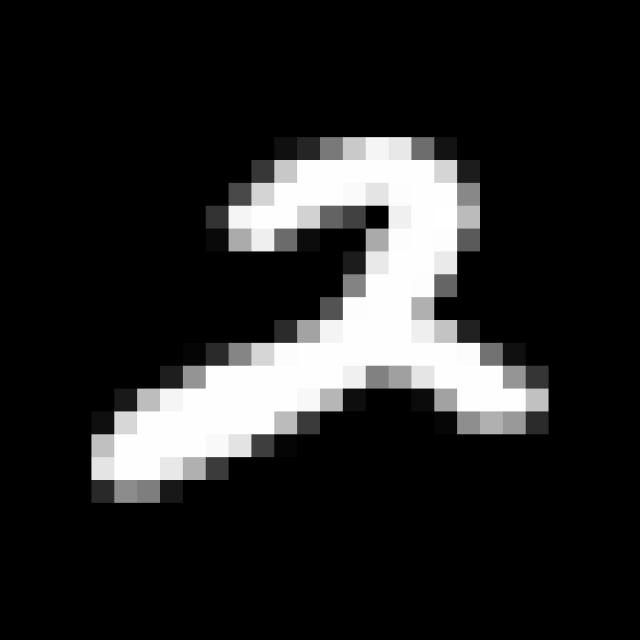two -2-: (84, 121, 563, 510)
